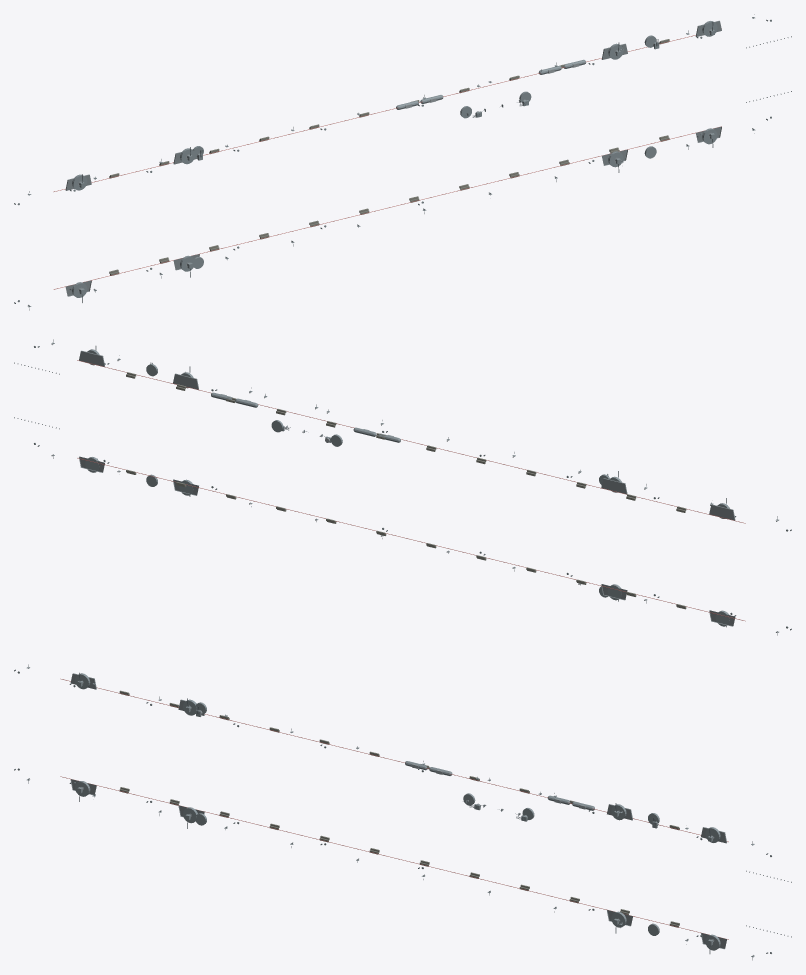
The model's file is CV6_Weapons_Fittings.glb.
3 views of the same model, one above another, from view 1: azimuth 30°, elevation 25°; view 2: azimuth 150°, elevation 25°; view 3: azimuth 330°, elevation 25° (orthographic).
Parts seen in each view (by area): view 1: CV6_weapons_hazegray, CV6_fittings_red, CV6_fittings_wood, CV6_weapons_deck_edge, CV6_fittings_hazegray; view 2: CV6_weapons_deck_edge, CV6_weapons_hazegray, CV6_fittings_red, CV6_fittings_wood, CV6_fittings_hazegray; view 3: CV6_weapons_hazegray, CV6_fittings_red, CV6_fittings_wood, CV6_weapons_deck_edge, CV6_fittings_hazegray.
Part boxes in pixels (x1=…): CV6_weapons_hazegray: x1=28, y1=17, x2=755, y2=307; CV6_fittings_red: x1=53, y1=35, x2=721, y2=289; CV6_fittings_wood: x1=109, y1=39, x2=669, y2=275; CV6_weapons_deck_edge: x1=65, y1=20, x2=721, y2=296; CV6_fittings_hazegray: x1=17, y1=19, x2=771, y2=302; CV6_weapons_deck_edge: x1=79, y1=350, x2=735, y2=626; CV6_weapons_hazegray: x1=51, y1=342, x2=778, y2=632; CV6_fittings_red: x1=77, y1=360, x2=745, y2=621; CV6_fittings_wood: x1=126, y1=372, x2=686, y2=609; CV6_fittings_hazegray: x1=34, y1=346, x2=788, y2=628; CV6_weapons_hazegray: x1=27, y1=667, x2=754, y2=957; CV6_fittings_red: x1=60, y1=678, x2=728, y2=939; CV6_fittings_wood: x1=119, y1=690, x2=679, y2=927; CV6_weapons_deck_edge: x1=70, y1=673, x2=726, y2=949; CV6_fittings_hazegray: x1=17, y1=671, x2=771, y2=953.
Size of the model in its own units: 223 by 35.81 by 3.84.
